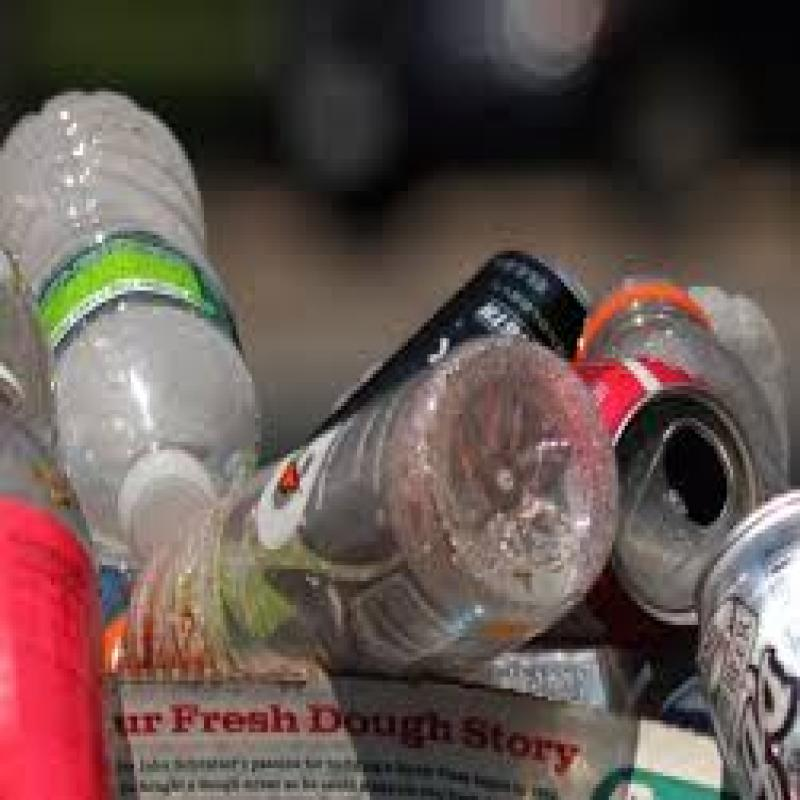botella: (95, 334, 620, 672), (0, 88, 267, 562)
